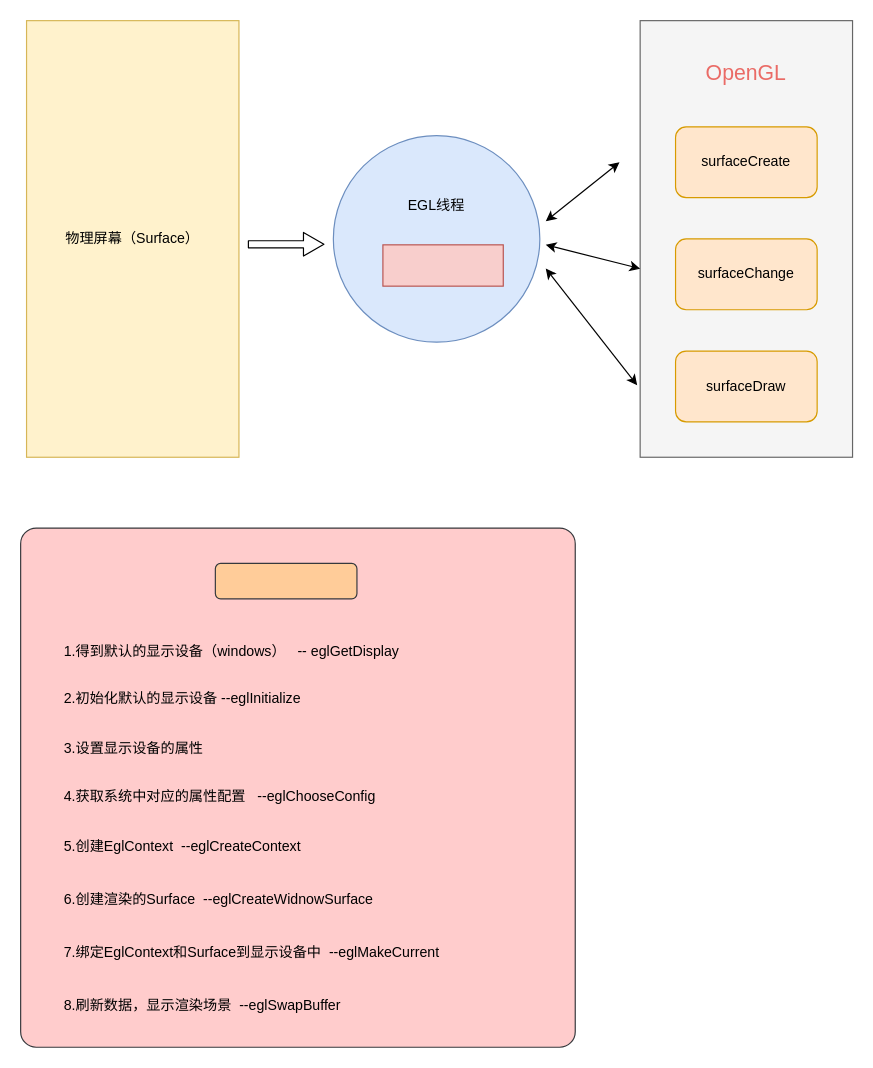
Some shapes in this 873 by 1068 pixel diagram are drawn without their labels. Here are the shapes that lost their labels. From the top down, the centre of each, then its label:
point 442,265: EGL环境
point 285,580: EGL的渲染流程
